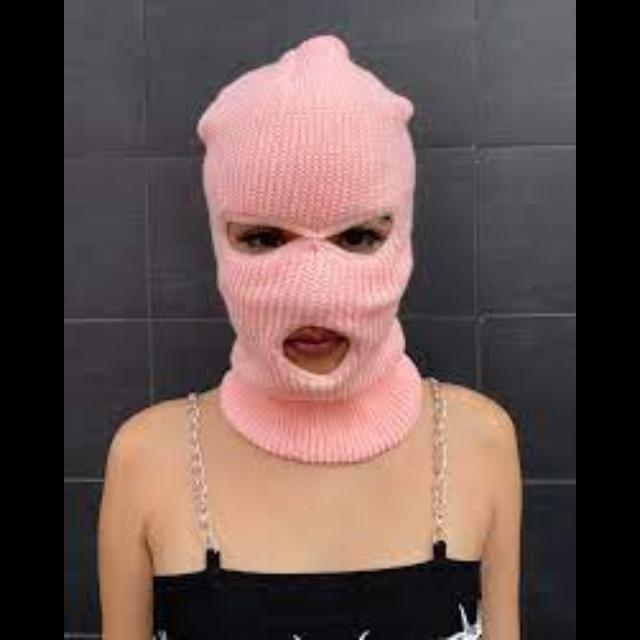criminal: (97, 35, 523, 640)
